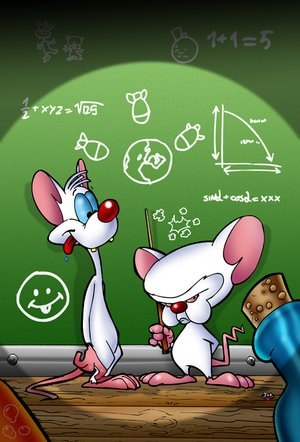cerebro: (132, 188, 260, 399)
pink: (25, 154, 142, 405)
